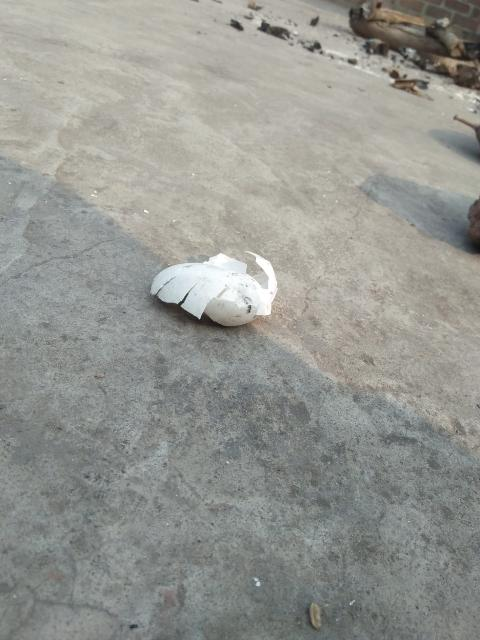Roto: (149, 249, 278, 327)
